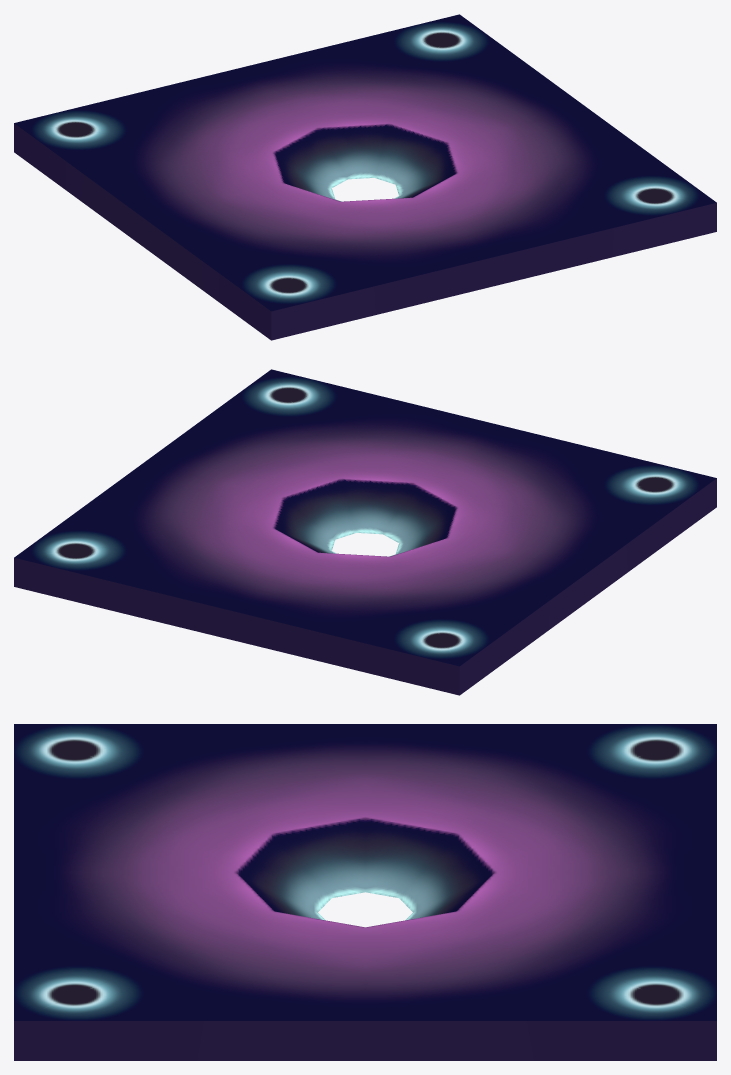
Rendered from urban_hole.gltf.
3 views of the same model, one above another, from view 1: azimuth 30°, elevation 25°; view 2: azimuth 150°, elevation 25°; view 3: azimuth 270°, elevation 25° (orthographic). The views are drawn at different scales.
Parts seen in each view (by area): view 1: urban_hole_glb; view 2: urban_hole_glb; view 3: urban_hole_glb.
Part boxes in pixels (x1,y1,x2,y2): urban_hole_glb: (14, 14, 716, 340); urban_hole_glb: (14, 369, 716, 695); urban_hole_glb: (14, 724, 716, 1060).
Size of what is drawn, in the model's own units: 4 by 0.25 by 4.
1 material, 1 textured.
